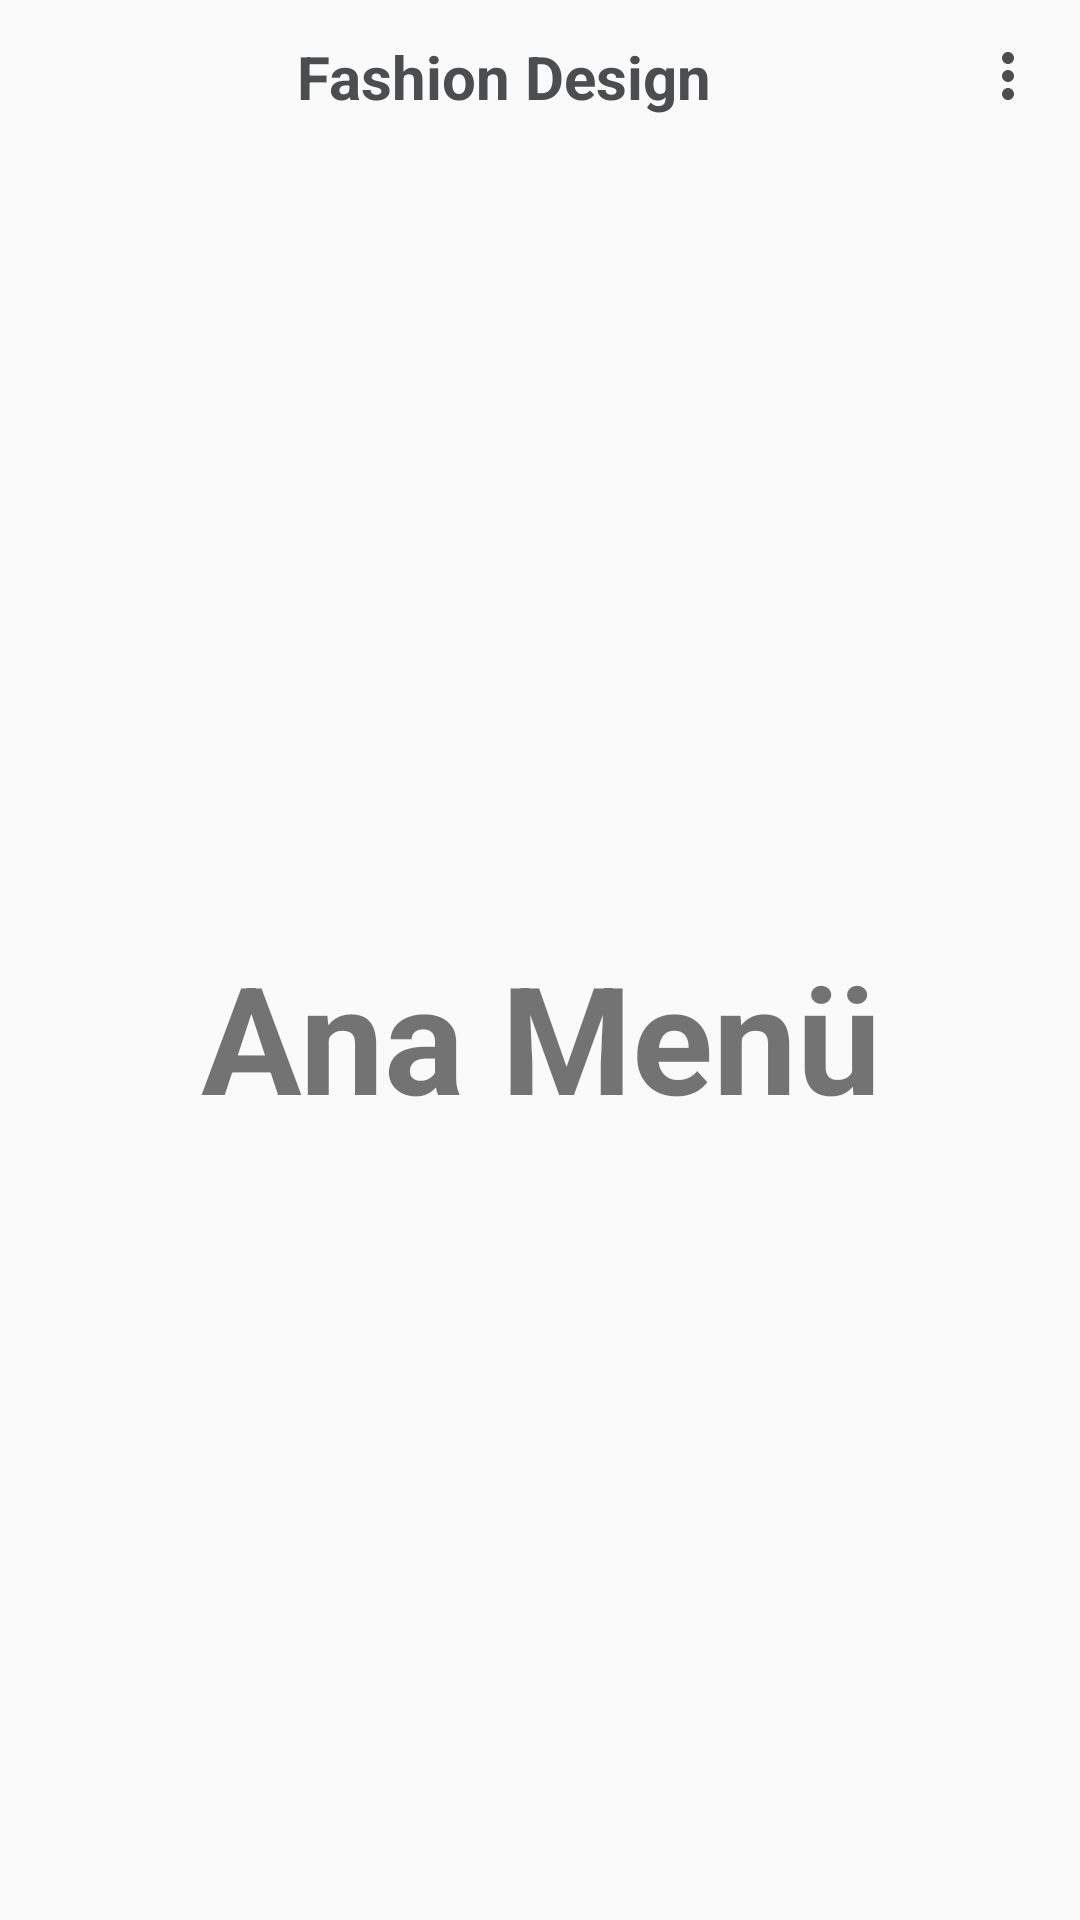

Icon click points for this 1080 × 1920 phone screenshot, format point (x, y):
more: point (1008, 76)
